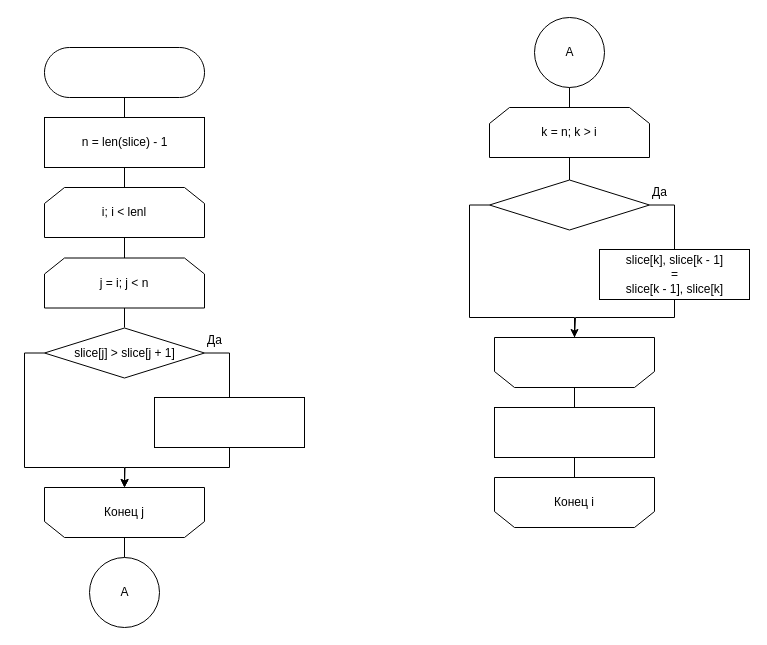
Image size: 767x645. Some labels were removed from this diagram. The shapes that lost their labels are listed below. From the top down, each one's box as (x1, y1, x2, y2) in pixels, then its label:
(44, 46, 204, 98): Начало
(488, 179, 650, 230): slice[k] < slice[k - 1]
(494, 336, 654, 388): Конец k
(154, 396, 304, 448): slice[j], slice[j + 1] = slice[j + 1], slice[j]
(494, 406, 654, 458): n--
